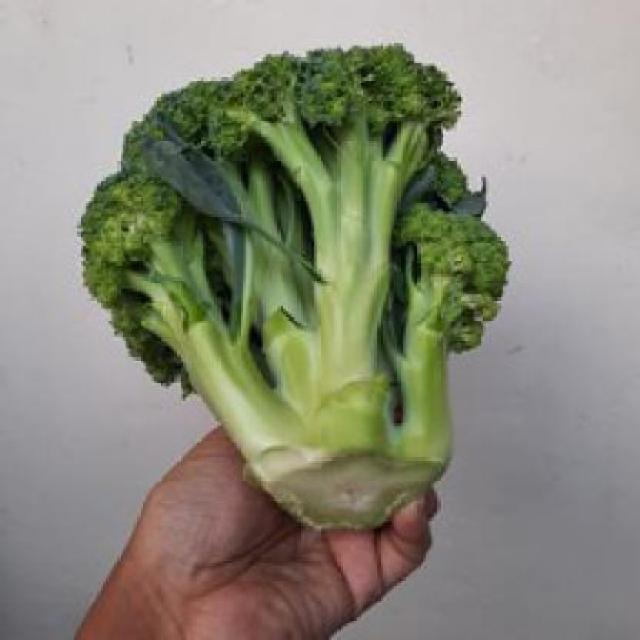broccoli: (78, 46, 514, 539)
